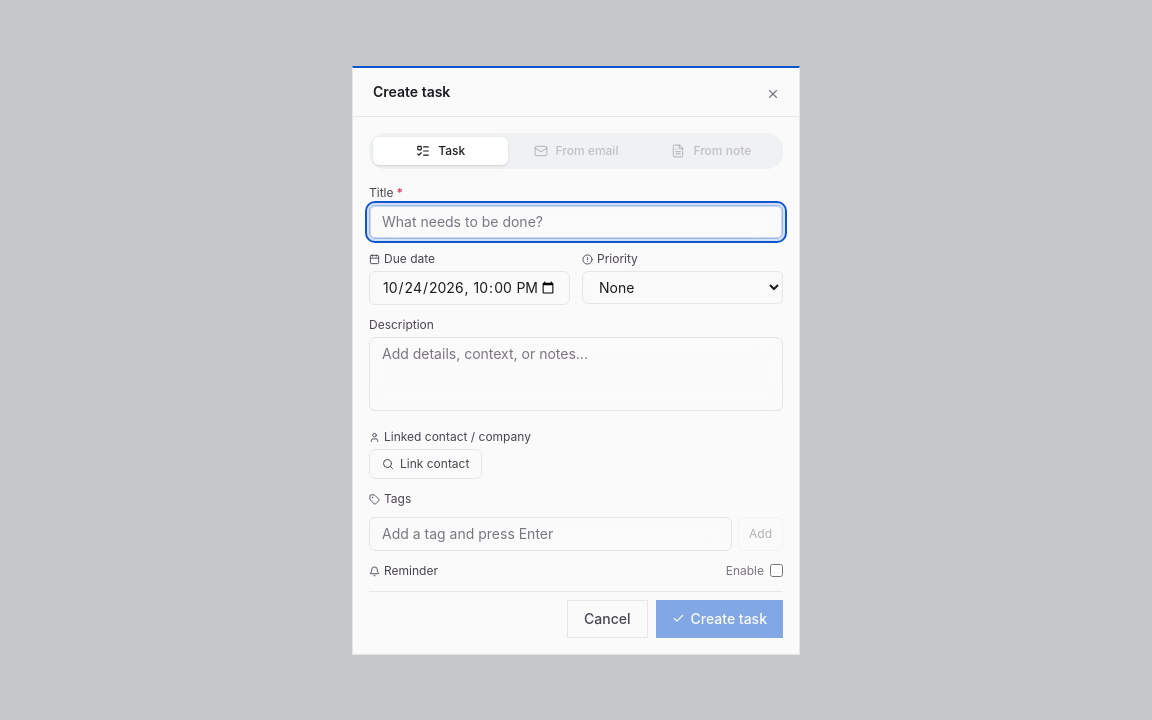
Test: TaskCreateModal › shows error when no account is selected
Type "My task" into the field with placeholder "What needs to be done?".
click(576, 222); type("My task")  # box [369, 204, 783, 238]
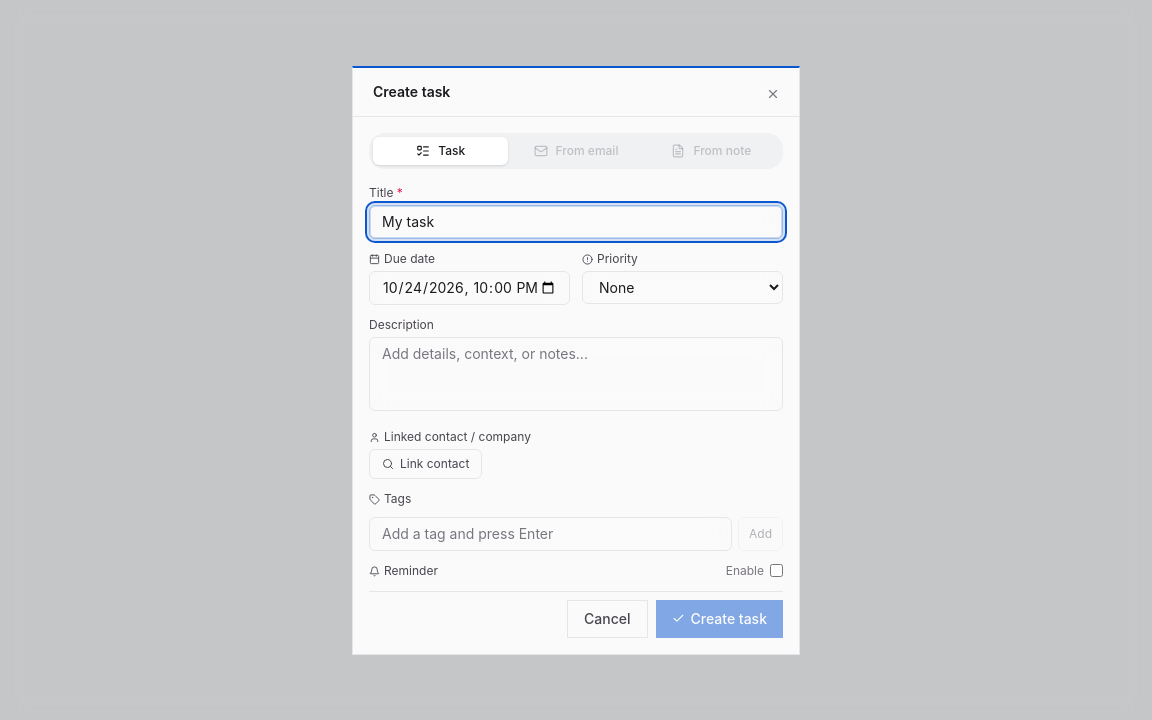
Submit the form, box [353, 184, 799, 654]
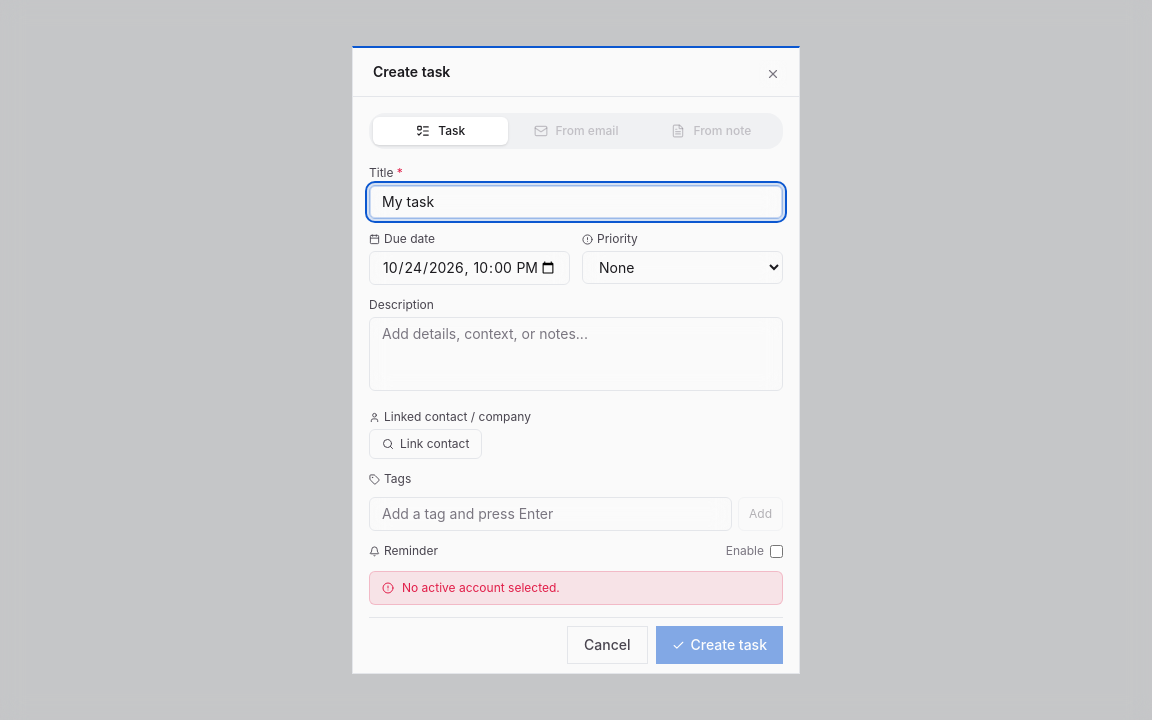
Check: the text "No active account selected." is shown, box [402, 580, 560, 596]
